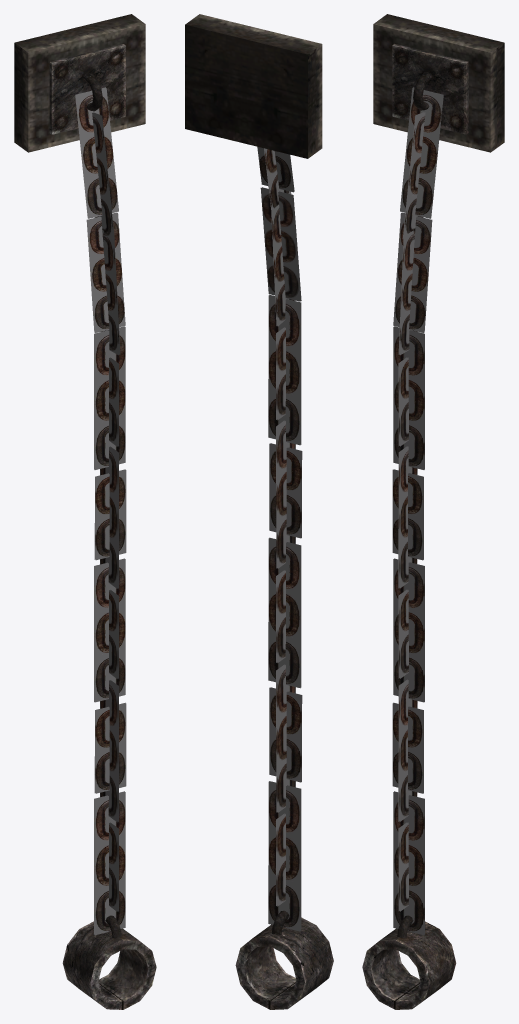
File: shackles_single_long.dae
3 views of the same model, side by side, from view 1: azimuth 30°, elevation 25°; view 2: azimuth 150°, elevation 25°; view 3: azimuth 330°, elevation 25° (orthographic). The views are drawn at different scales.
Visible parts, largest first — view 1: polySurface1, lshack, lchain1, lchain3, lchain7, lchain5, lchain2, lchain4, lchain6; view 2: polySurface1, lshack, lchain7, lchain5, lchain3, lchain2, lchain6, lchain4, lchain1; view 3: polySurface1, lshack, lchain1, lchain5, lchain7, lchain3, lchain2, lchain6, lchain4.
Part boxes in pixels (bbox=[...]): polySurface1: bbox=[14, 14, 145, 152]; lshack: bbox=[62, 915, 156, 1009]; lchain1: bbox=[75, 87, 118, 239]; lchain3: bbox=[94, 326, 125, 469]; lchain7: bbox=[94, 791, 125, 935]; lchain5: bbox=[94, 558, 125, 702]; lchain2: bbox=[86, 212, 125, 355]; lchain4: bbox=[94, 446, 126, 588]; lchain6: bbox=[94, 680, 126, 822]; polySurface1: bbox=[185, 14, 322, 158]; lshack: bbox=[235, 910, 333, 1009]; lchain7: bbox=[268, 781, 301, 931]; lchain5: bbox=[268, 537, 301, 688]; lchain3: bbox=[268, 294, 301, 445]; lchain2: bbox=[260, 187, 301, 326]; lchain6: bbox=[269, 664, 302, 812]; lchain4: bbox=[269, 420, 302, 568]; lchain1: bbox=[257, 146, 294, 209]; polySurface1: bbox=[373, 14, 504, 152]; lshack: bbox=[362, 915, 456, 1009]; lchain1: bbox=[400, 87, 443, 238]; lchain5: bbox=[393, 558, 424, 702]; lchain7: bbox=[393, 791, 424, 935]; lchain3: bbox=[393, 326, 424, 469]; lchain2: bbox=[393, 212, 432, 355]; lchain6: bbox=[392, 679, 423, 821]; lchain4: bbox=[392, 446, 423, 588].
Bounding box in the file's own units: 0.306 × 2.35 × 0.2275.
